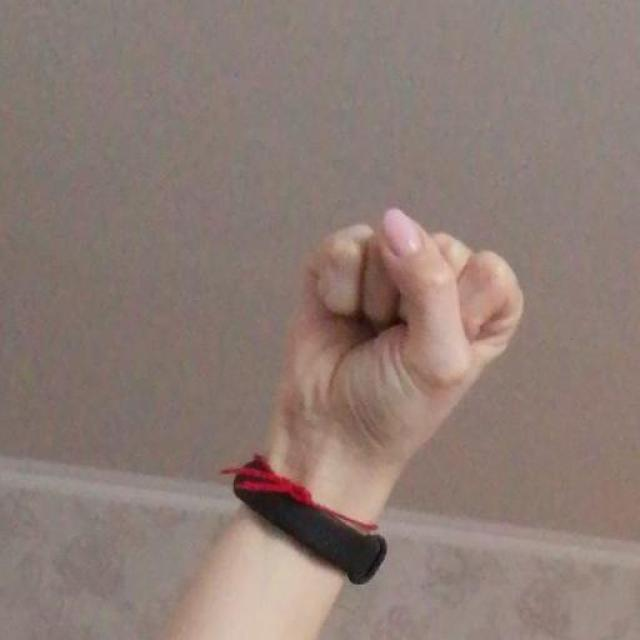hand: (271, 205, 524, 471)
